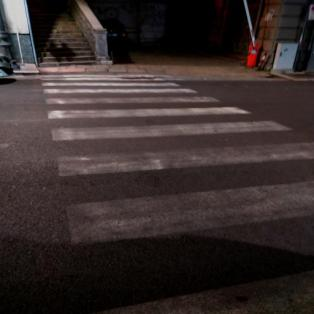Paso de Cebra: (51, 140, 313, 250), (43, 93, 260, 122)
